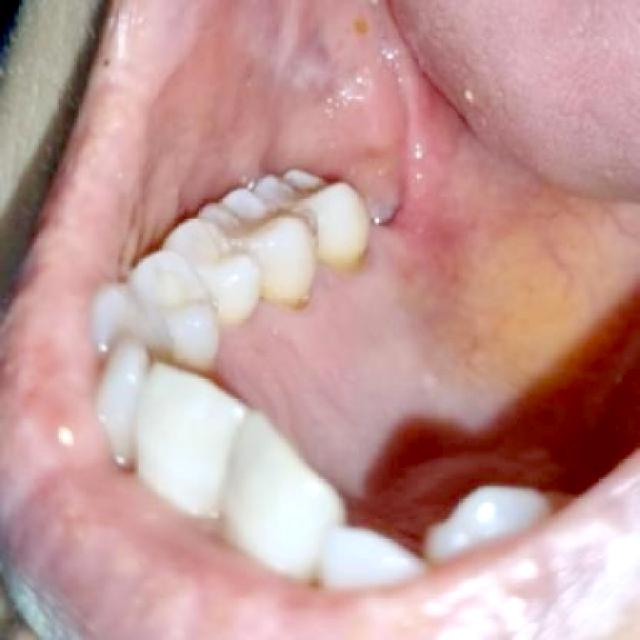Plaque: (238, 226, 414, 348)
